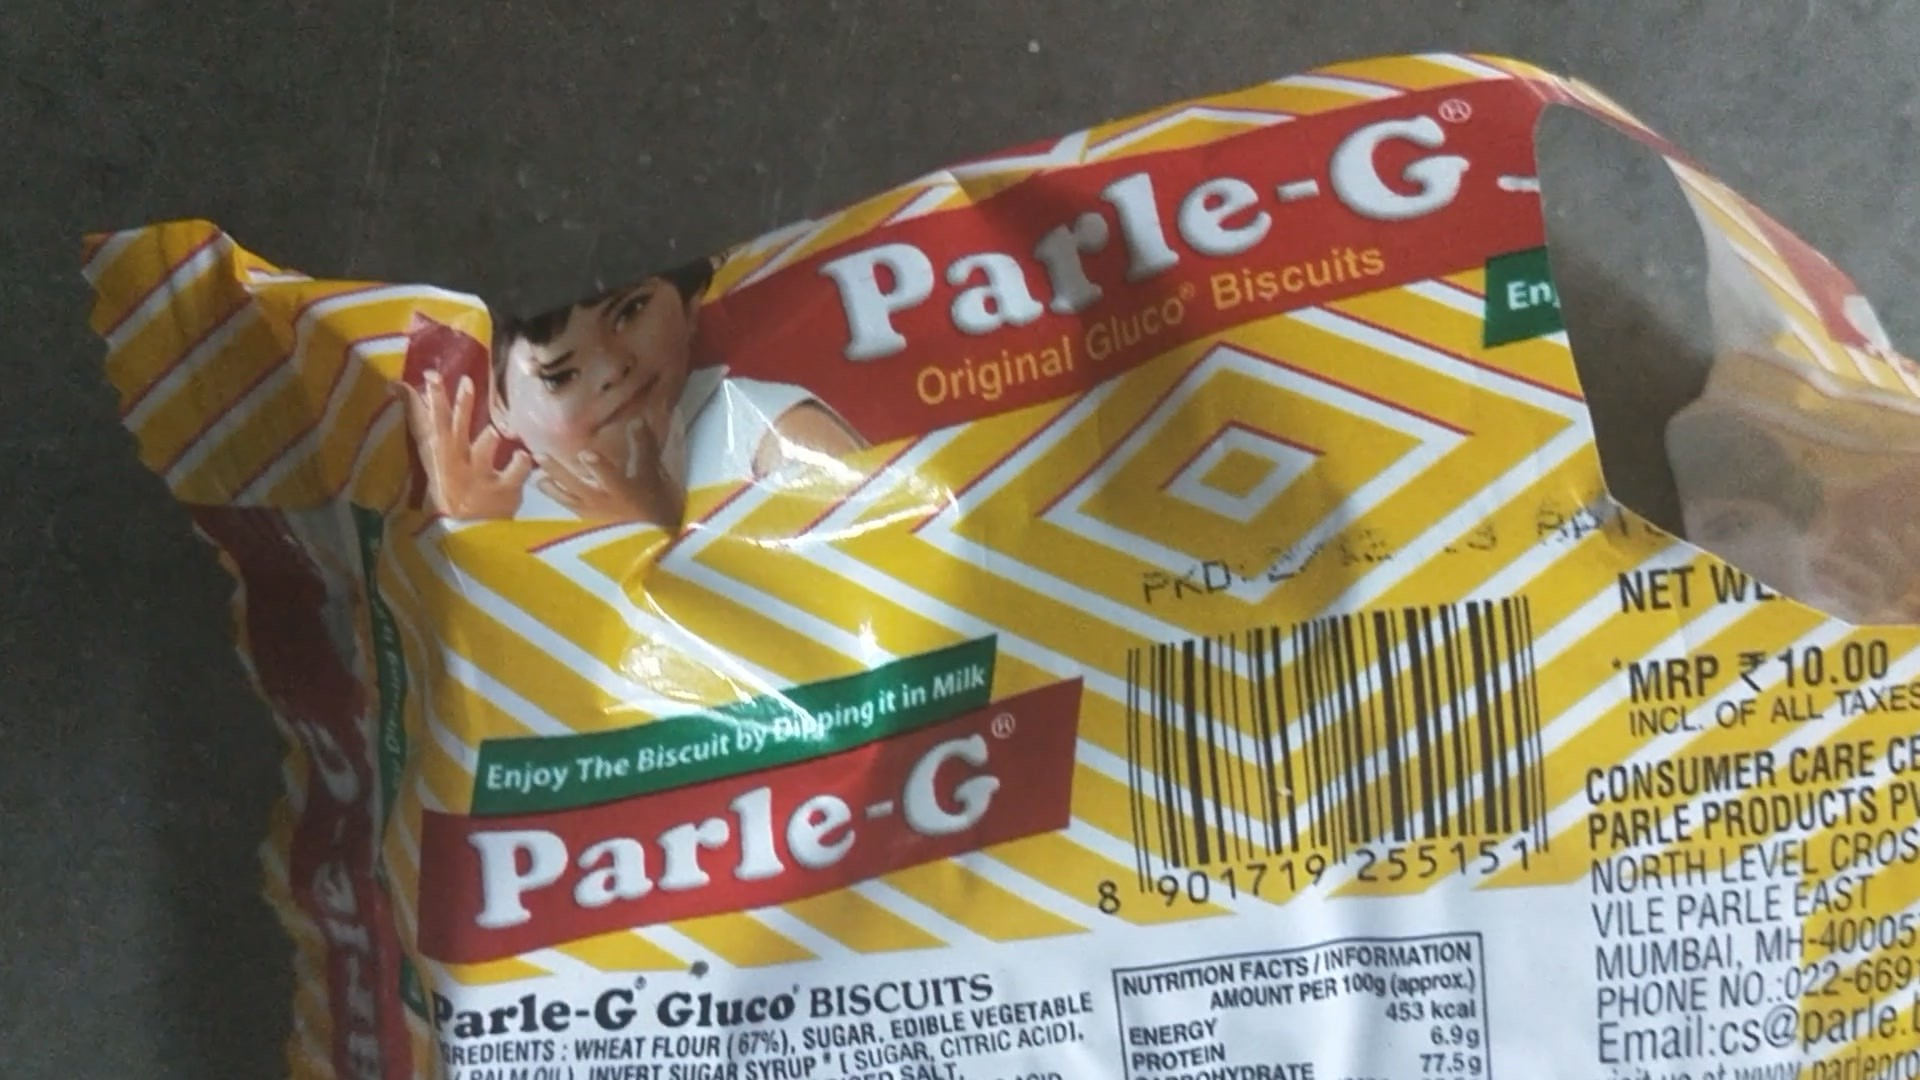parle-g-b: (223, 164, 1898, 1080)
